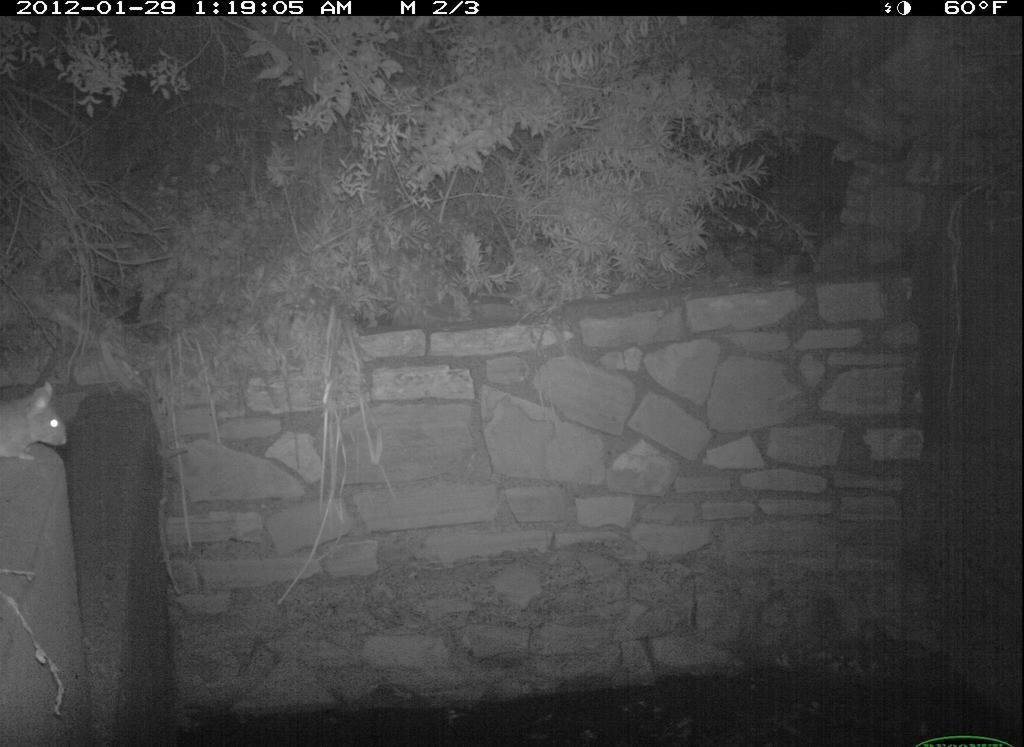rodent: (3, 368, 88, 478)
